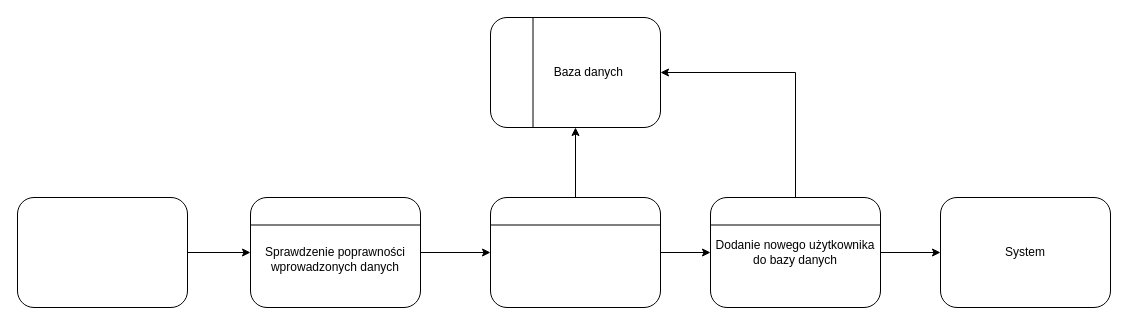
This 1128x325 diagram has some shape labels left out. The centre of each missing label's shape, as x and y in pixels:
"Porównanie danych wprowadzonych przez użytkownika z bazą danych" goes at (575,252).
"Użytkownik" goes at (102,252).
